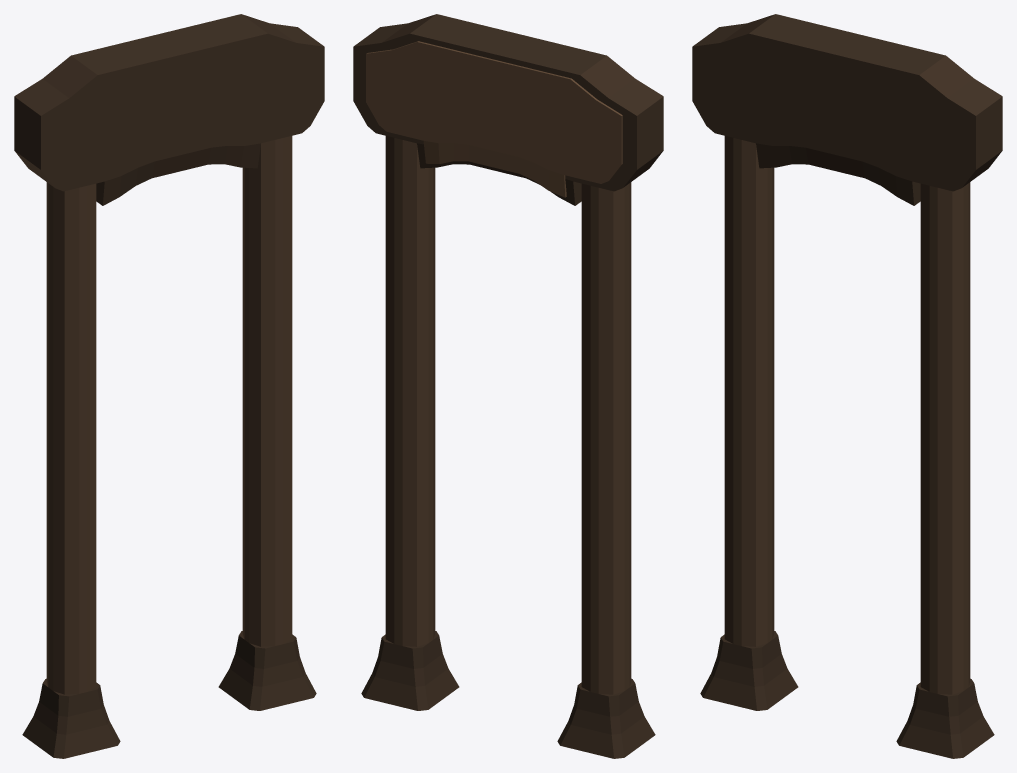
File: Archway Sign(No Text).glb
3 renders of one model, left to right at view 1: azimuth 30°, elevation 25°; view 2: azimuth 150°, elevation 25°; view 3: azimuth 330°, elevation 25°, orthographic.
Visible parts, largest first — view 1: ArchWay, ArchWay Post.001, ArchWay Post, ArchWay Post Base, ArchWay Post Base.001; view 2: ArchWay Post.001, ArchWay Sign, ArchWay Post, ArchWay, ArchWay Post Base, ArchWay Post Base.001; view 3: ArchWay, ArchWay Post, ArchWay Post.001, ArchWay Post Base, ArchWay Post Base.001.
Part boxes in pixels (x1=…): ArchWay: x1=14, y1=14, x2=324, y2=205; ArchWay Post.001: x1=46, y1=182, x2=96, y2=694; ArchWay Post: x1=242, y1=136, x2=292, y2=646; ArchWay Post Base: x1=218, y1=631, x2=316, y2=710; ArchWay Post Base.001: x1=22, y1=678, x2=120, y2=758; ArchWay Post.001: x1=581, y1=182, x2=631, y2=694; ArchWay Sign: x1=366, y1=41, x2=622, y2=197; ArchWay Post: x1=385, y1=136, x2=435, y2=646; ArchWay: x1=353, y1=14, x2=663, y2=205; ArchWay Post Base: x1=361, y1=631, x2=459, y2=710; ArchWay Post Base.001: x1=557, y1=678, x2=655, y2=758; ArchWay: x1=692, y1=14, x2=1002, y2=205; ArchWay Post: x1=920, y1=182, x2=970, y2=694; ArchWay Post.001: x1=724, y1=136, x2=774, y2=646; ArchWay Post Base: x1=896, y1=678, x2=994, y2=758; ArchWay Post Base.001: x1=700, y1=631, x2=798, y2=710.
Bounding box in the file's own units: 5.5 × 12.4 × 1.3.
